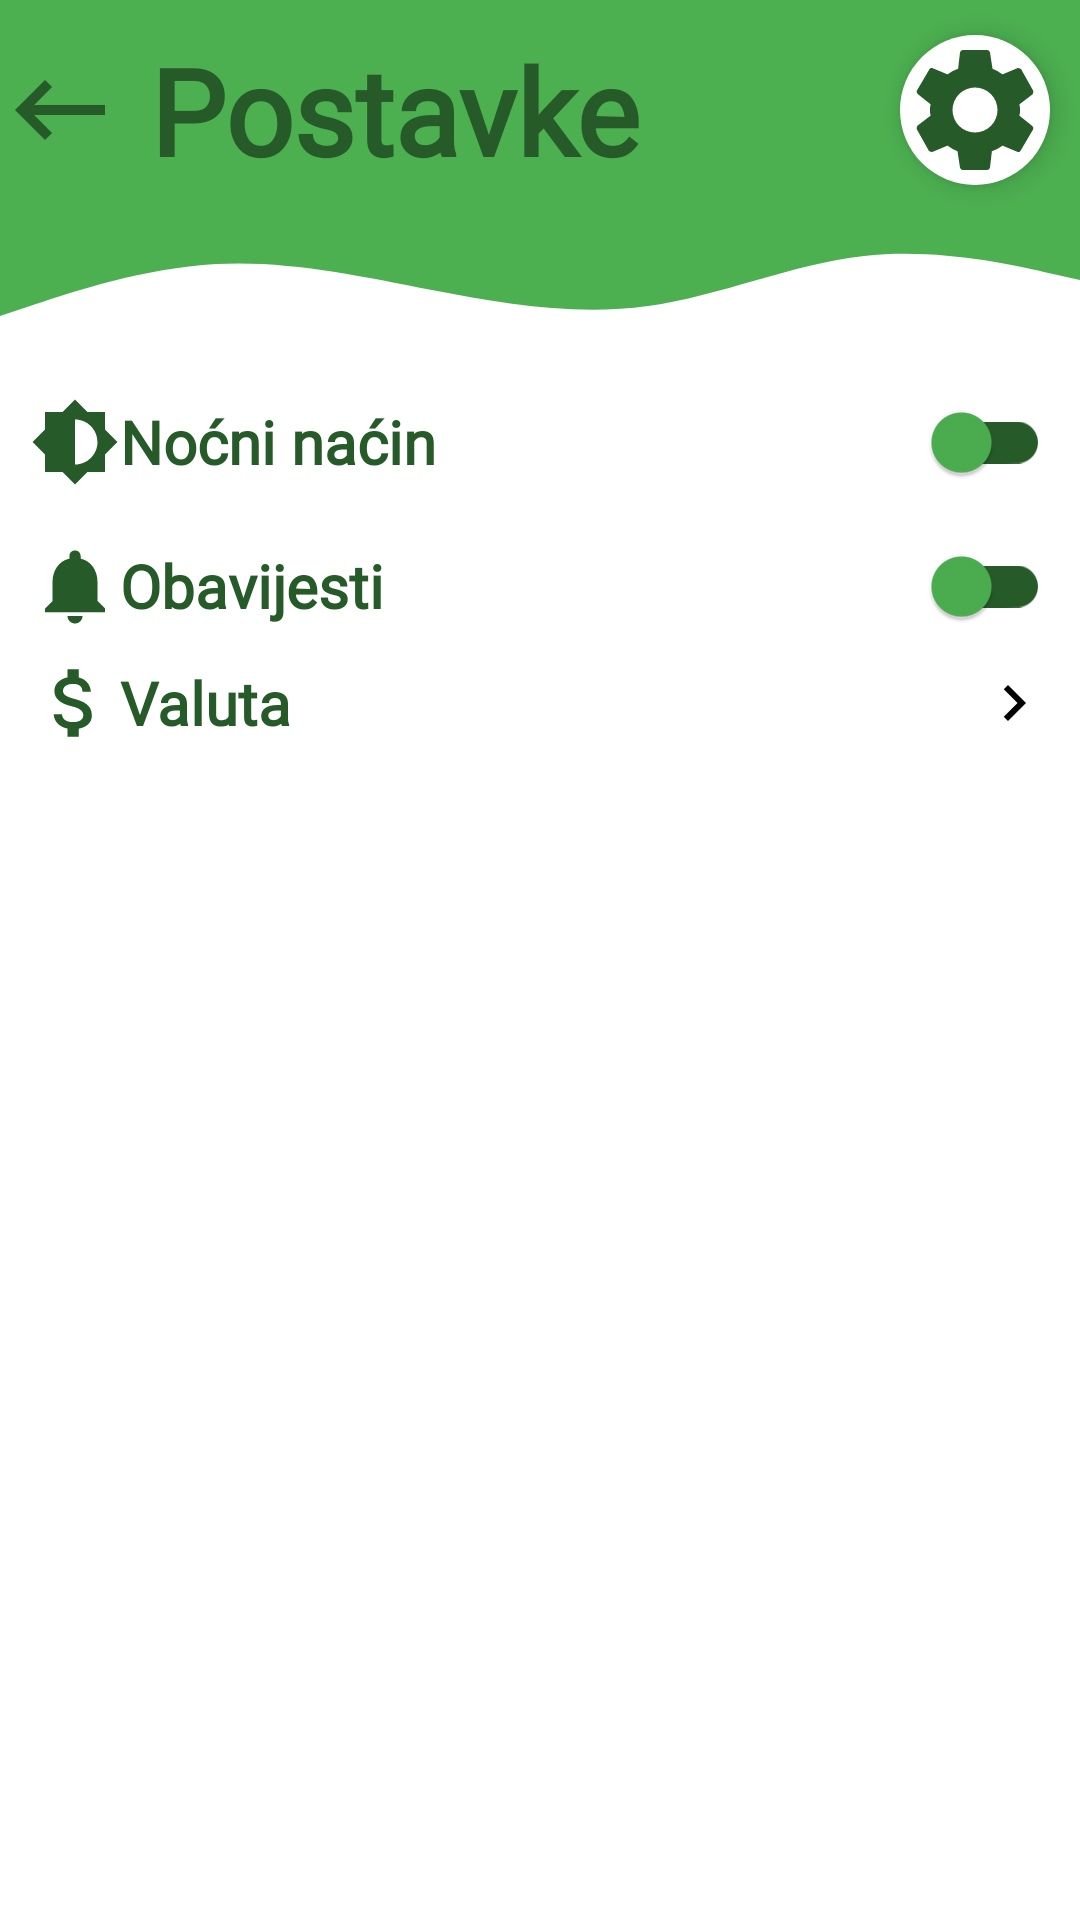

Locate icon controls on the screen. Image size 1080 x 1920, boxes as (x1, y1, x2, y2).
back: (15, 80, 105, 140)
currency: (53, 669, 92, 737)
mode: (33, 399, 117, 485)
next: (1004, 685, 1026, 721)
notifications: (45, 550, 105, 624)
settings: (900, 35, 1050, 185)
